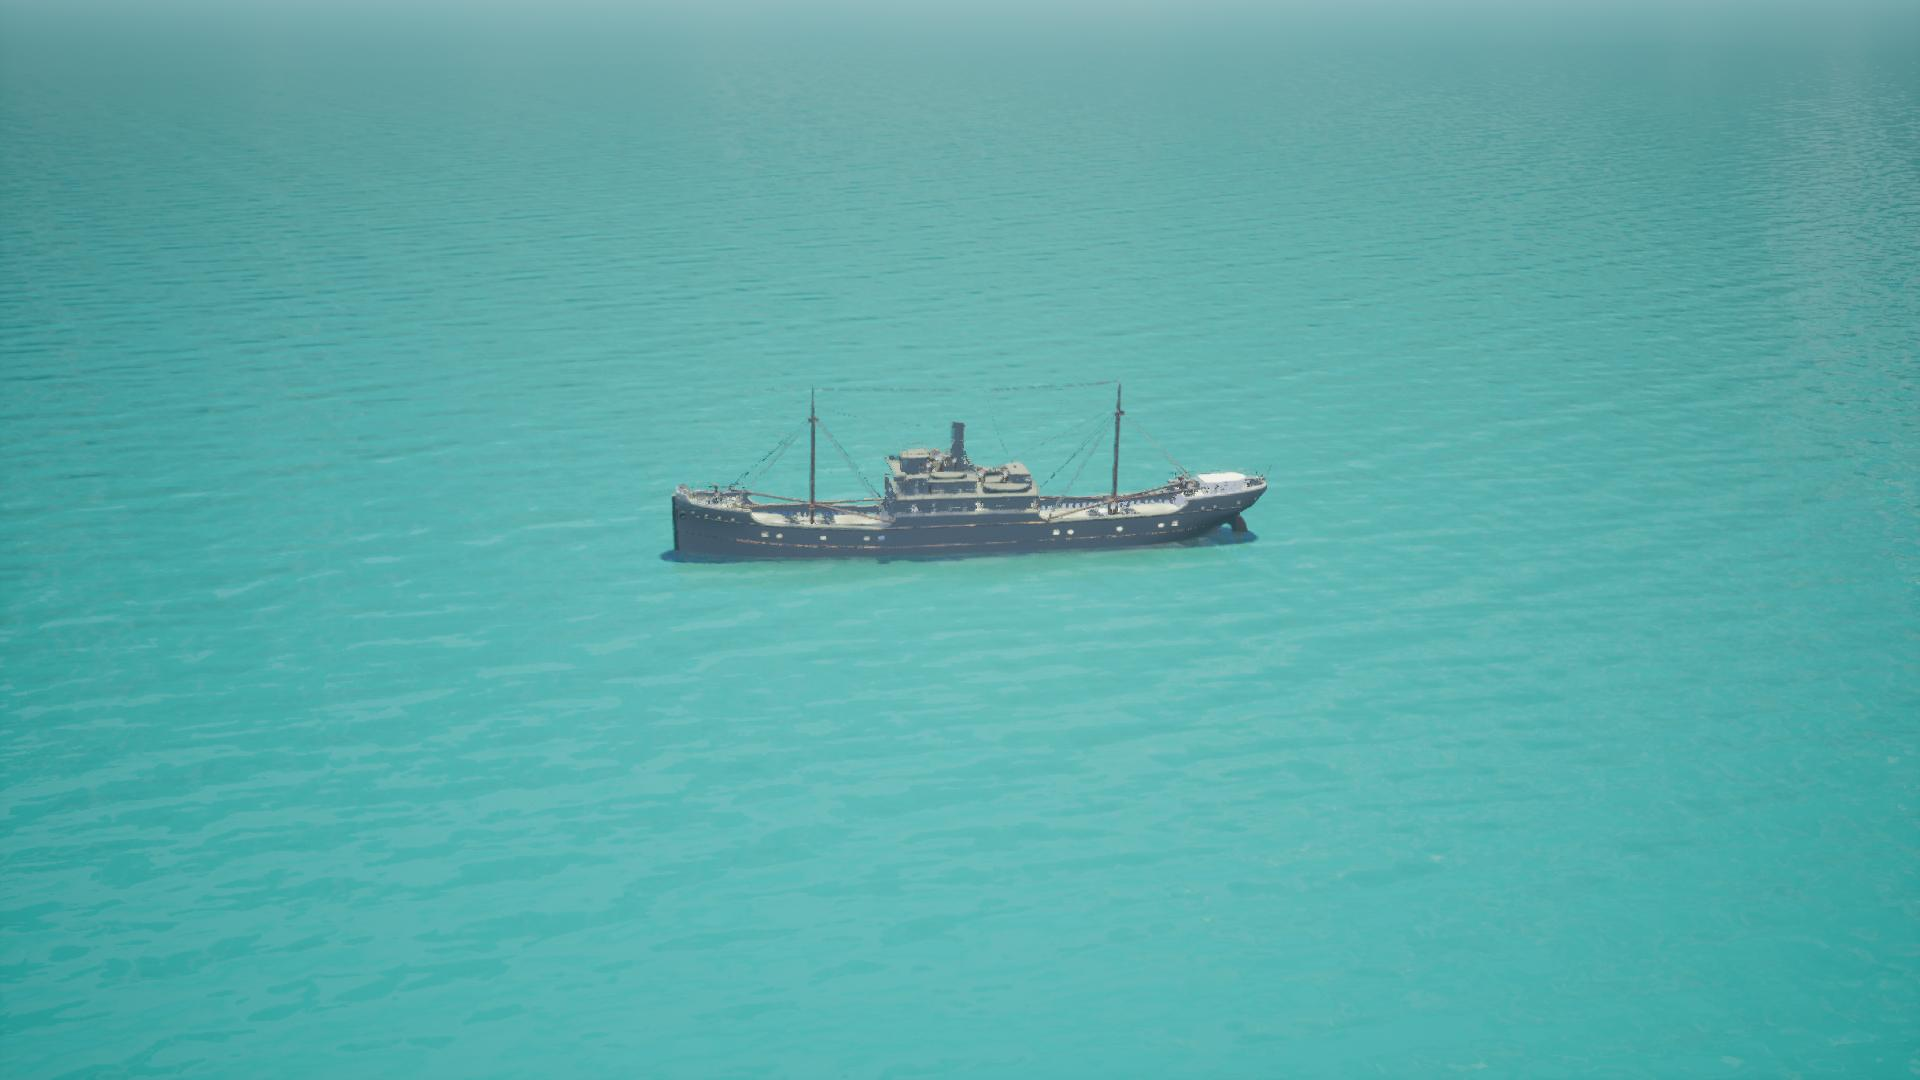Fishing Boat: (673, 382, 1262, 564)
